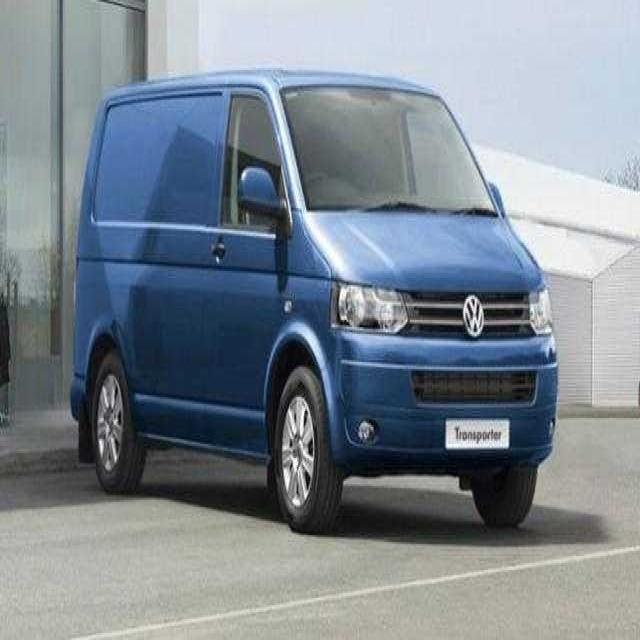car: (71, 68, 556, 534)
